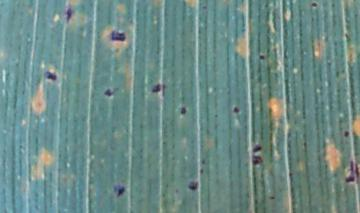tarspot: (345, 160, 360, 183), (64, 4, 74, 25), (111, 29, 127, 42), (113, 184, 126, 197), (103, 86, 114, 98), (150, 82, 162, 93), (45, 71, 58, 81), (252, 154, 262, 165), (251, 144, 263, 153), (188, 181, 198, 191), (232, 105, 241, 114), (344, 128, 350, 139), (180, 107, 187, 115), (269, 194, 276, 201), (311, 1, 317, 9), (201, 158, 206, 166), (259, 54, 265, 60), (202, 5, 208, 11), (199, 168, 204, 175)
